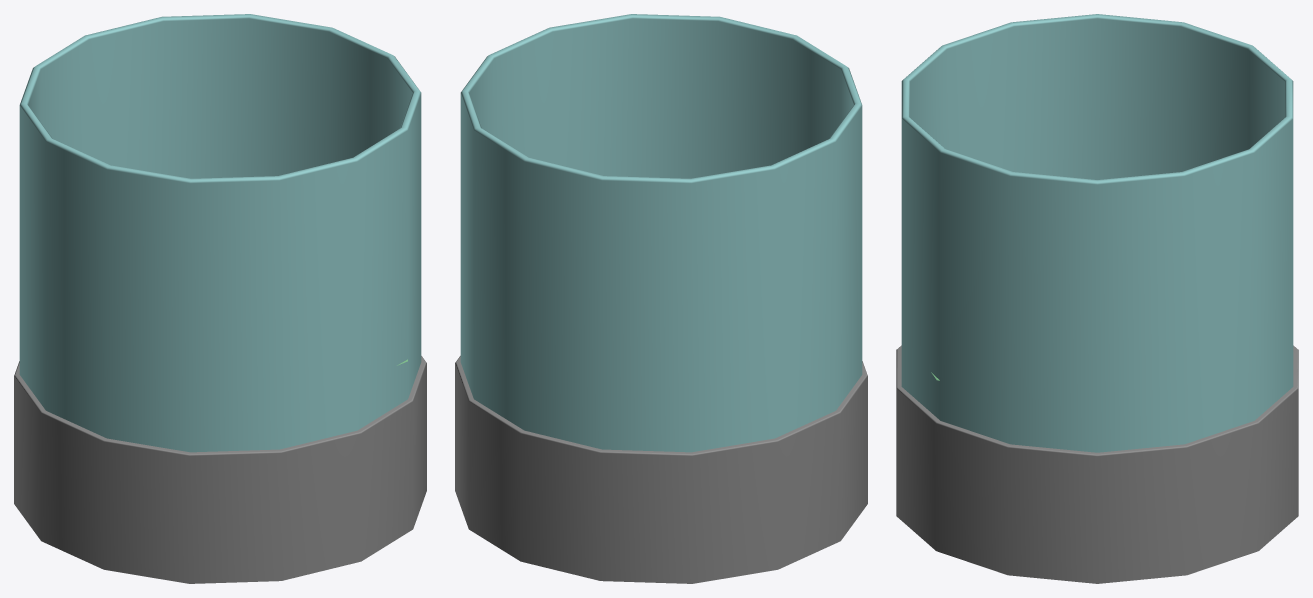
File: Vase.fbx
3 views of the same model, side by side, from view 1: azimuth 30°, elevation 25°; view 2: azimuth 150°, elevation 25°; view 3: azimuth 270°, elevation 25° (orthographic).
Visible parts, largest first — view 1: Vase; view 2: Vase; view 3: Vase.
Part boxes in pixels (<box>): Vase: <box>14,14,426,583</box>; Vase: <box>455,14,867,583</box>; Vase: <box>896,14,1298,583</box>.
Bounding box in the file's own units: 323 × 344 × 315.
